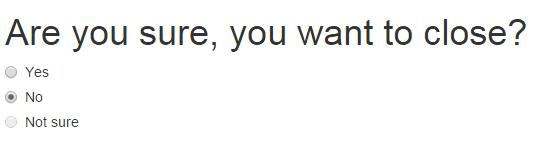checkbox: (3, 111, 22, 136), (4, 86, 20, 107), (3, 64, 20, 80)
